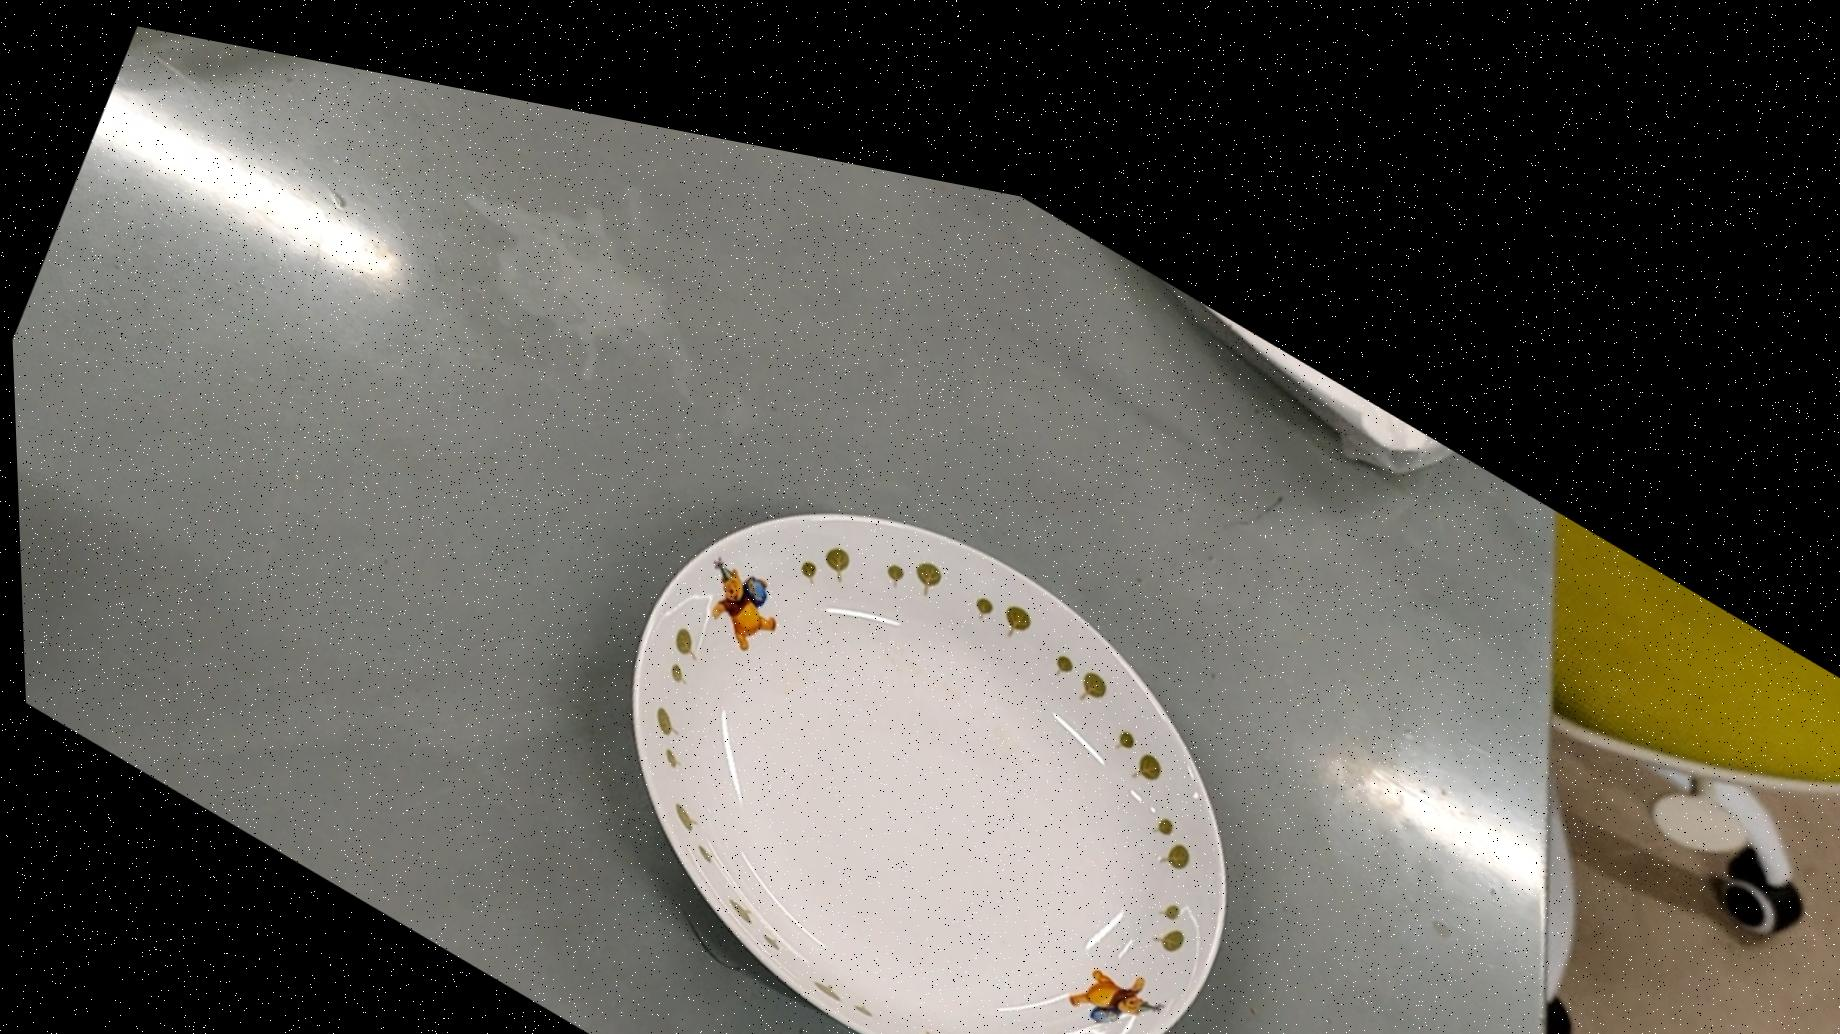plate: (536, 346, 1307, 1034)
